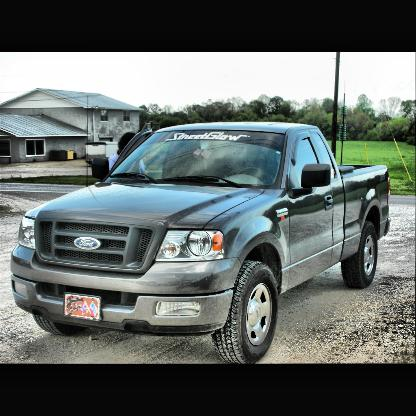Ford F-150 Regular Cab 2007: (12, 123, 391, 364)
